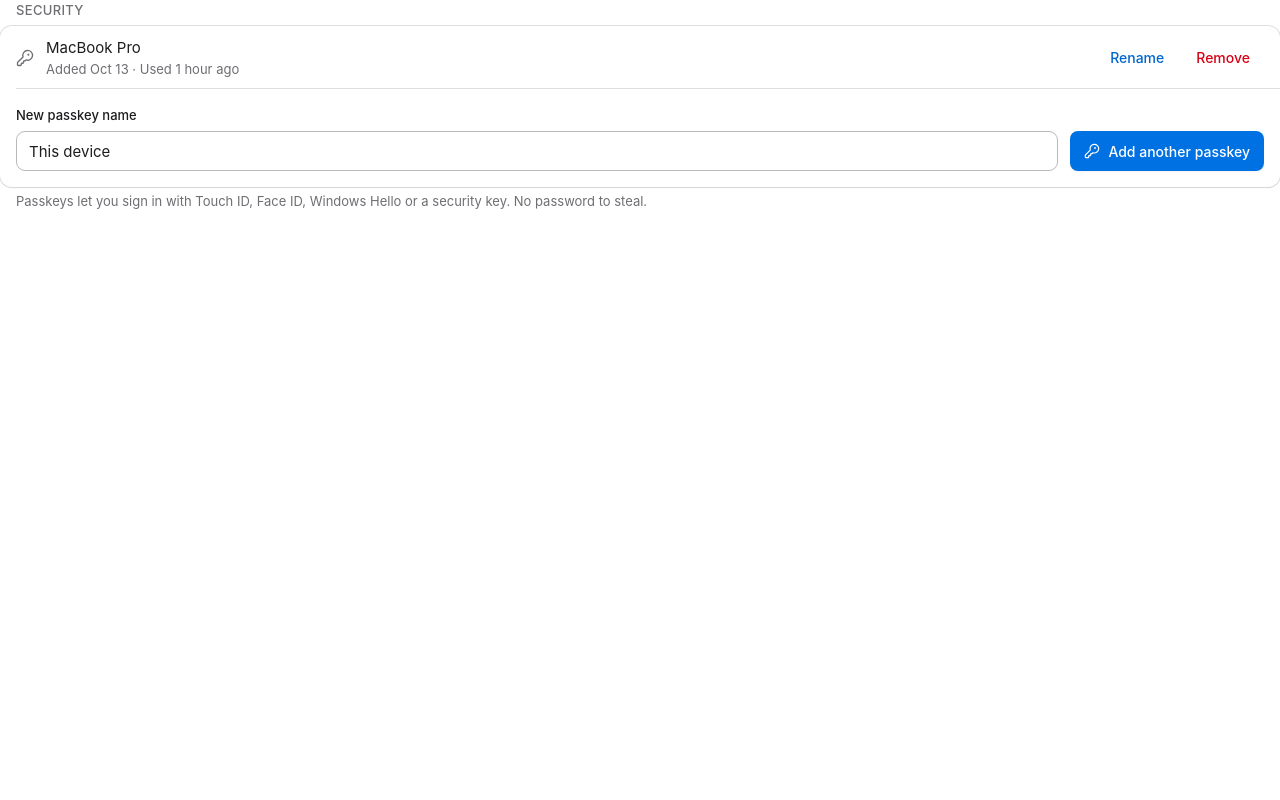
Test: SecuritySection › lists, renames and removes passkeys
Expected: the text "MacBook Pro" is shown, [46,38,141,57]
Step 1. Click the button with aria-label "Rename MacBook Pro" → (1137, 58), box [1096,42,1178,74]
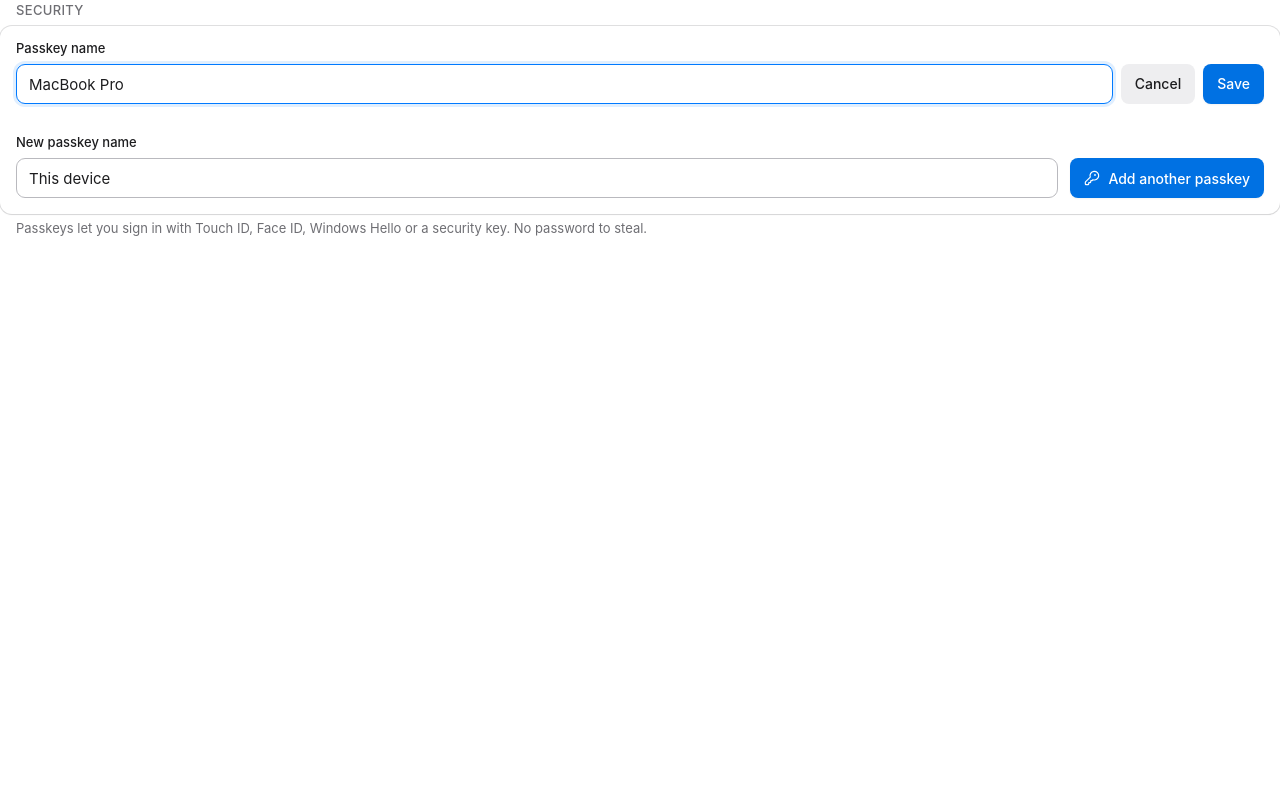
Step 2. Replace the text in the field labelled "Passkey name" with "Work laptop" → (564, 84), box [16,64,1113,104]
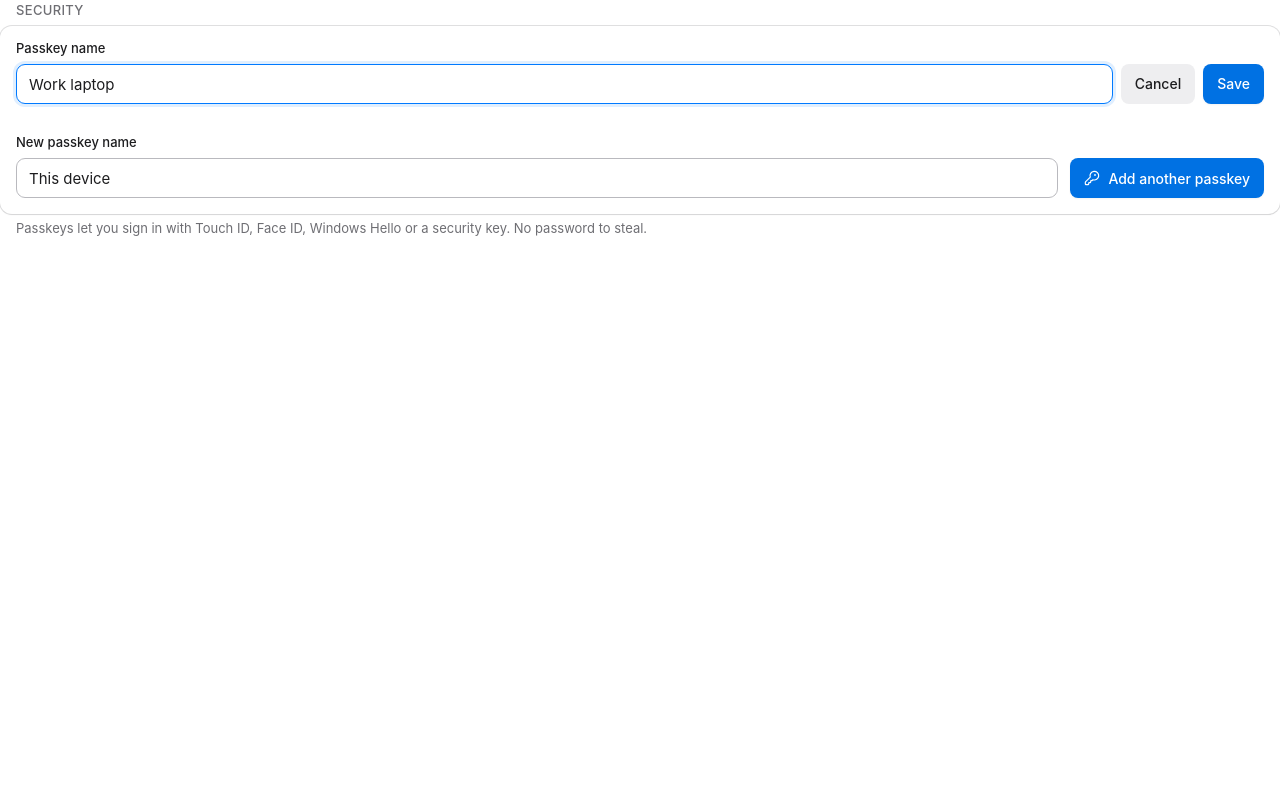
Step 3. Click the button "Save" → (1234, 84), box [1203,64,1264,104]
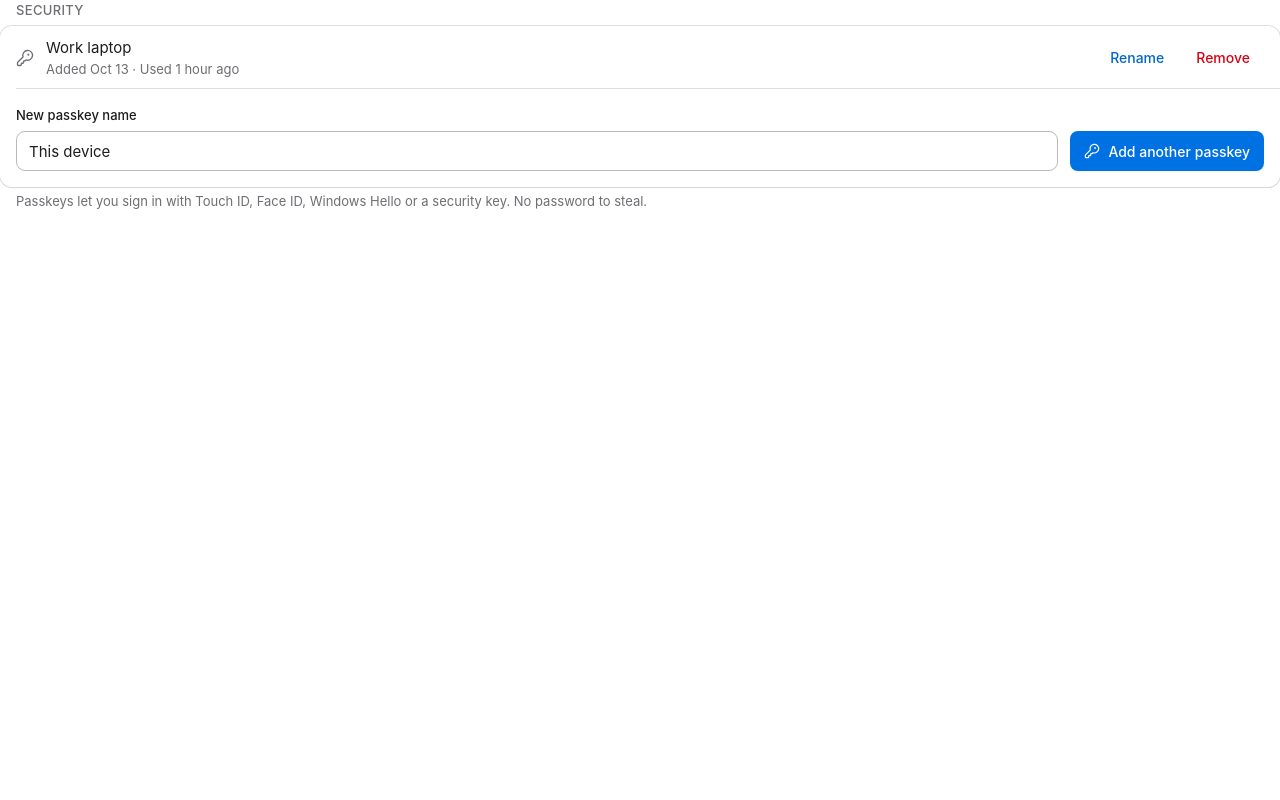
Now the text "Work laptop" is shown, box [46,38,132,57]
Step 4. Click the button with aria-label "Remove Work laptop" → (1223, 58), box [1182,42,1264,74]
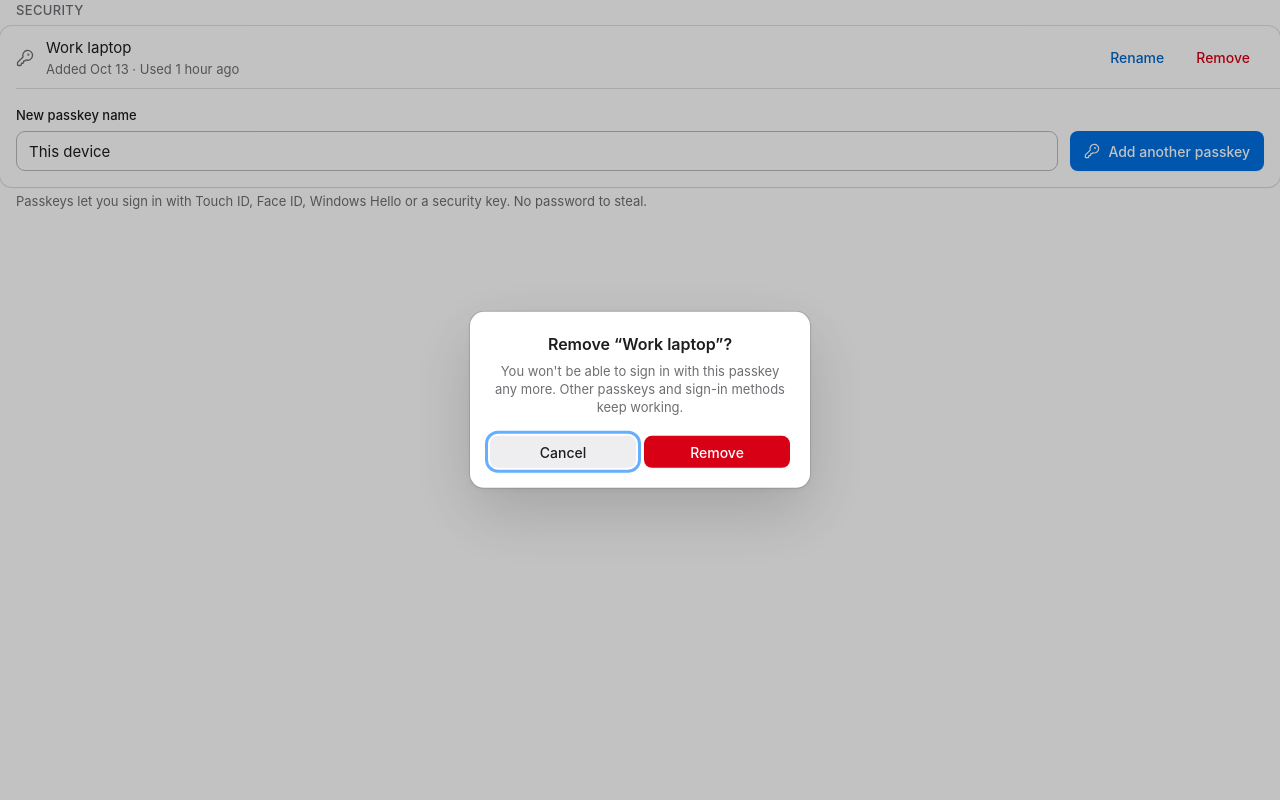
Step 5. Click the button "Remove" → (717, 452), box [644,436,790,468]
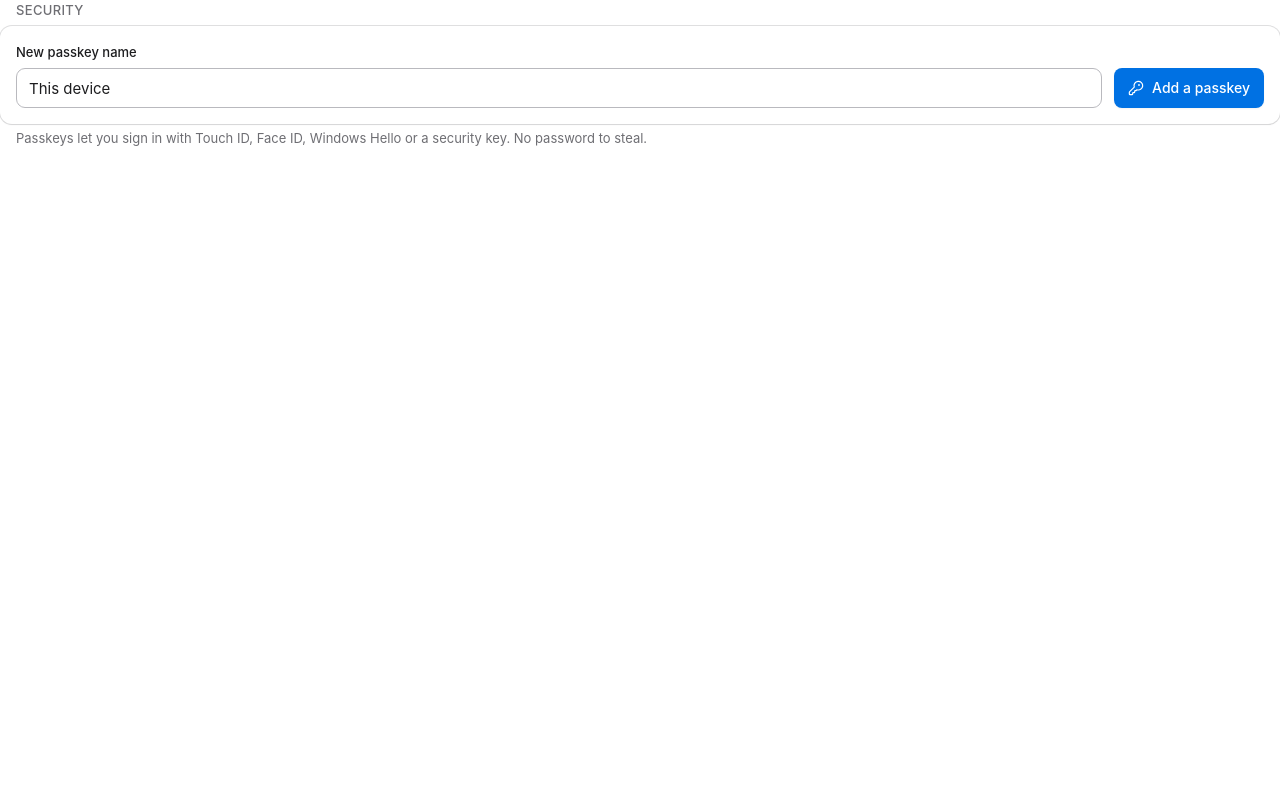
Now the text "Work laptop" is gone
